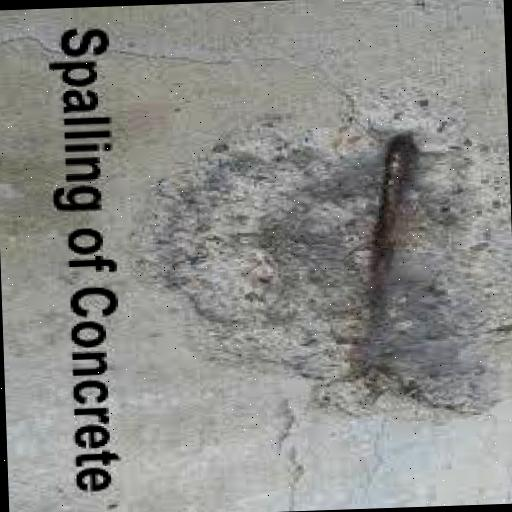spalling: (152, 106, 497, 412)
